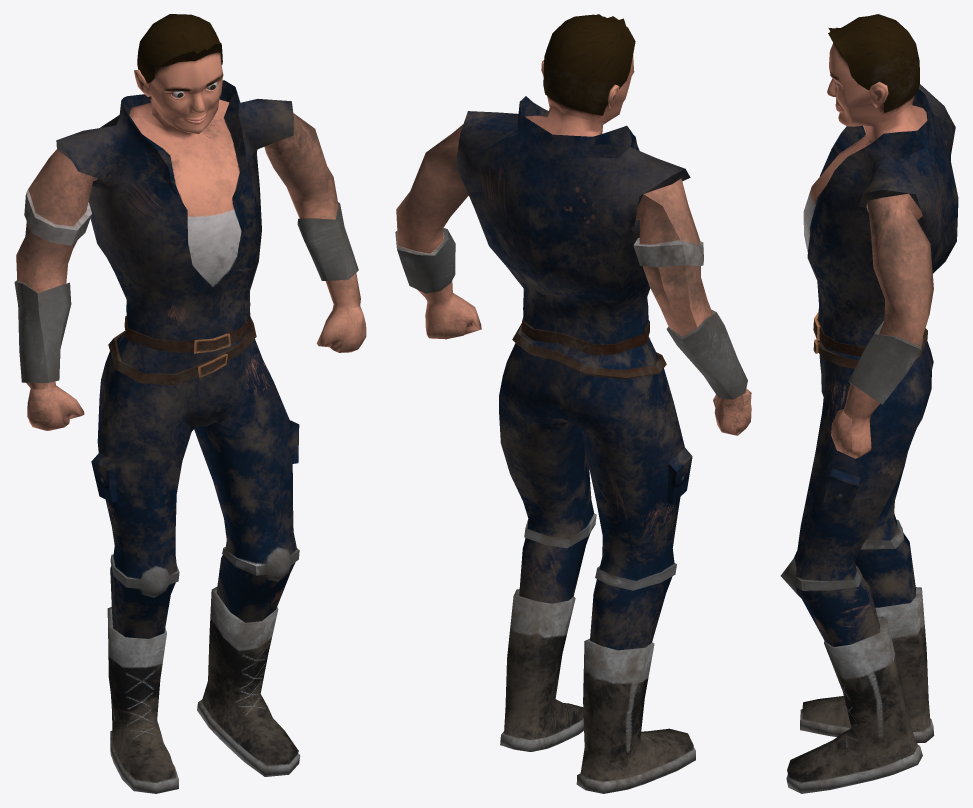
File: Anim_coger_objeto_jugador.0017.obj
3 views of the same model, side by side, from view 1: azimuth 30°, elevation 25°; view 2: azimuth 150°, elevation 25°; view 3: azimuth 270°, elevation 25° (orthographic).
Parts seen in each view (by area): view 1: polySurface1; view 2: polySurface1; view 3: polySurface1.
Part boxes in pixels (left/top/right/bottom): polySurface1: left=14, top=14, right=366, bottom=793; polySurface1: left=395, top=14, right=751, bottom=793; polySurface1: left=780, top=14, right=958, bottom=793.
Size of the model in its own units: 4.51 by 9.61 by 2.1.
